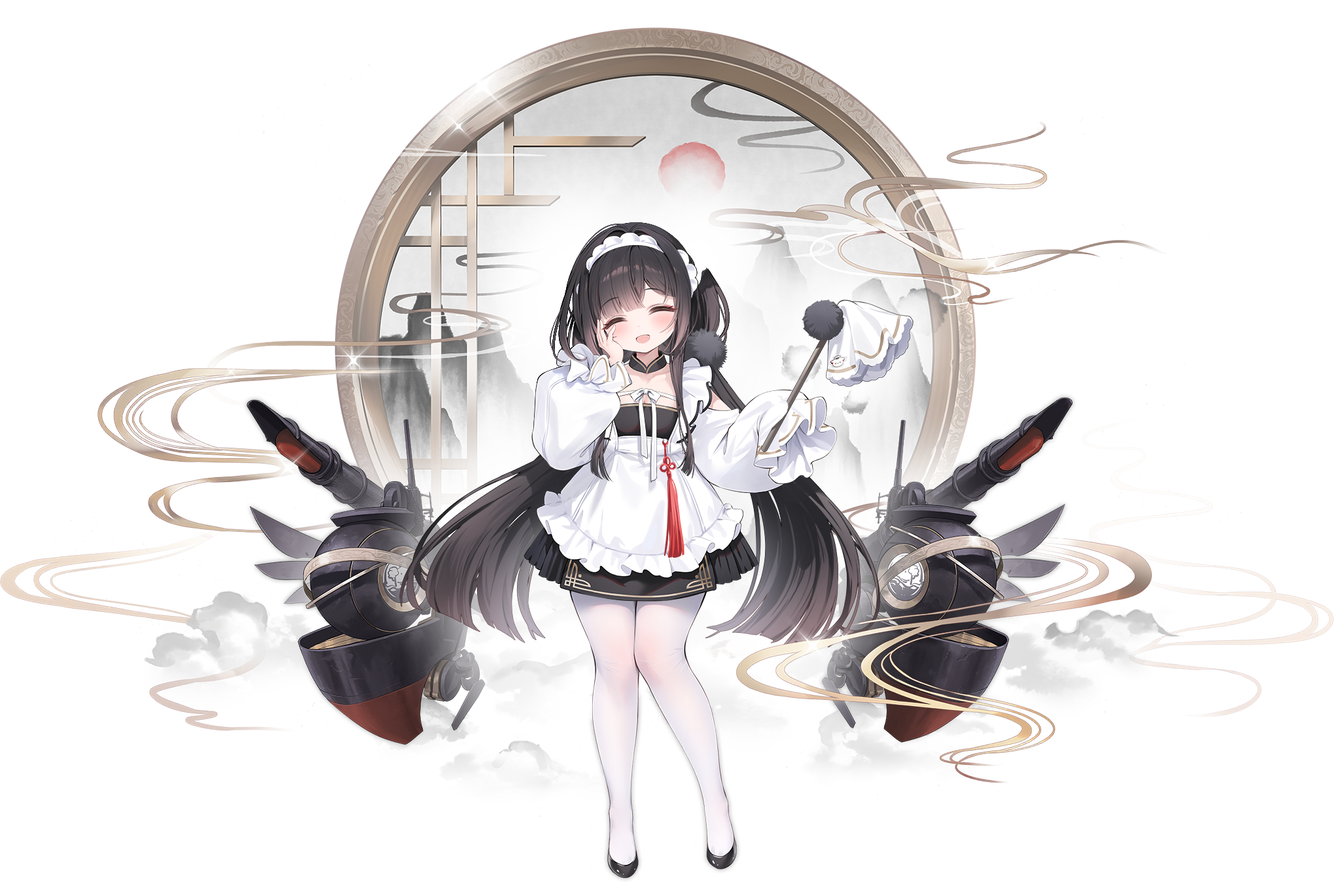person: (436, 195, 859, 881)
